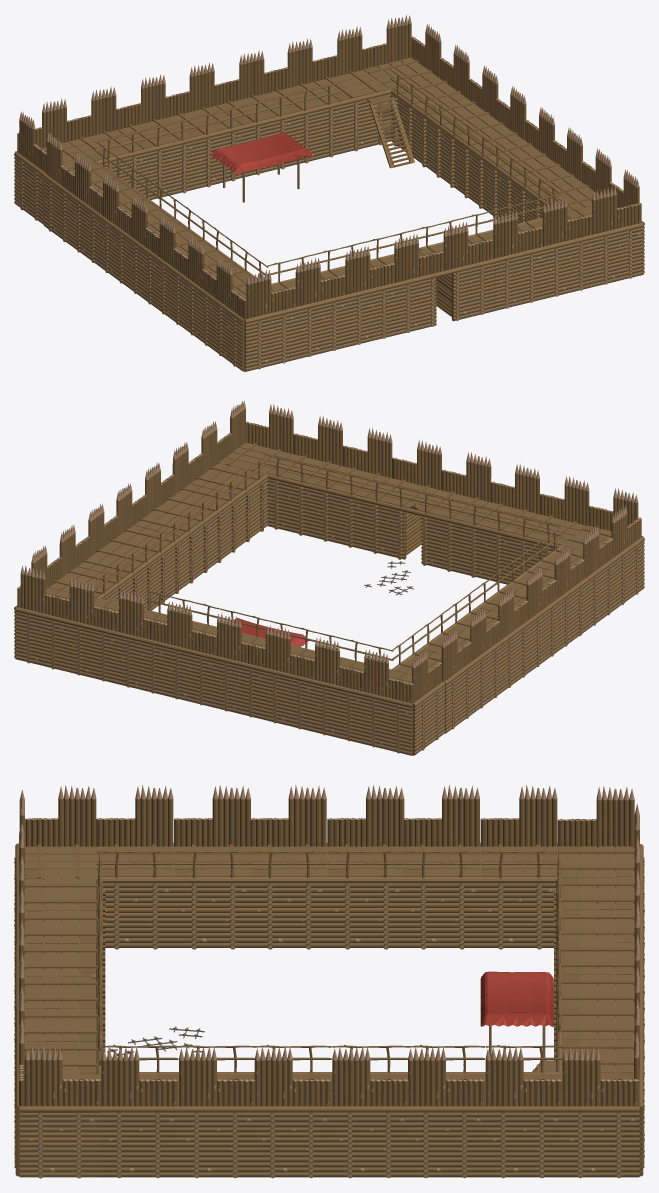
Rendered from Wood_Fort 1.fbx.
3 renders of one model, top to bottom at view 1: azimuth 30°, elevation 25°; view 2: azimuth 150°, elevation 25°; view 3: azimuth 270°, elevation 25°, orthographic. The views are drawn at different scales.
Parts seen in each view (by area): view 1: Fort; view 2: Fort; view 3: Fort.
Part boxes in pixels (<box>): Fort: <box>14,14,644,371</box>; Fort: <box>14,401,644,755</box>; Fort: <box>14,785,644,1178</box>.
Size of the model in its own units: 32.88 by 32.78 by 7.54.
2 materials, 1 textured.
